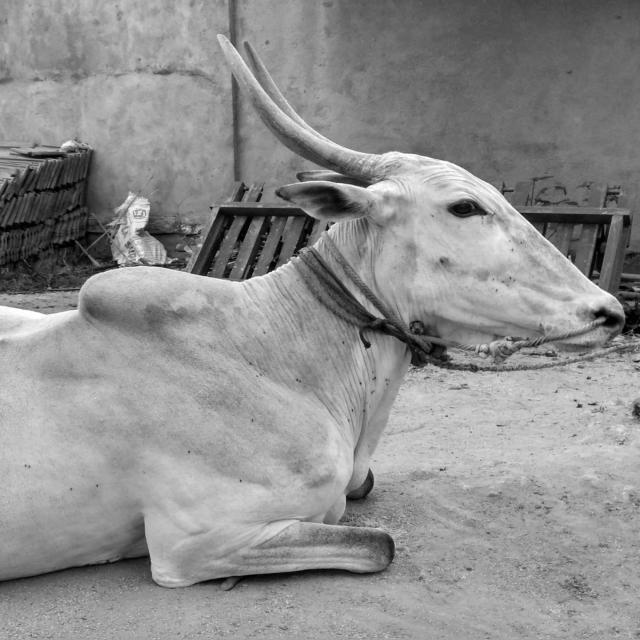Cow: (0, 33, 628, 591)
